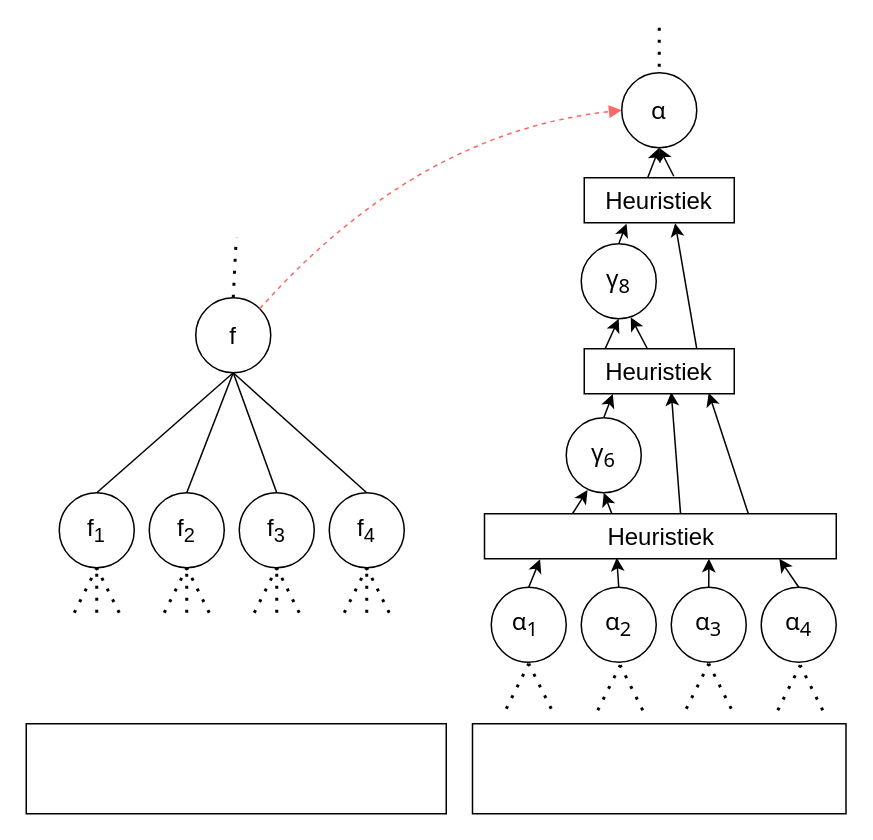
Some shapes in this 873 by 840 pixel diagram are drawn without their labels. Here are the shapes that lost their labels. From the top down, the box of each, then its label:
(25, 722, 446, 814): Deel van logisch circuit
(471, 722, 846, 814): Deel van bottom-up compilatie
